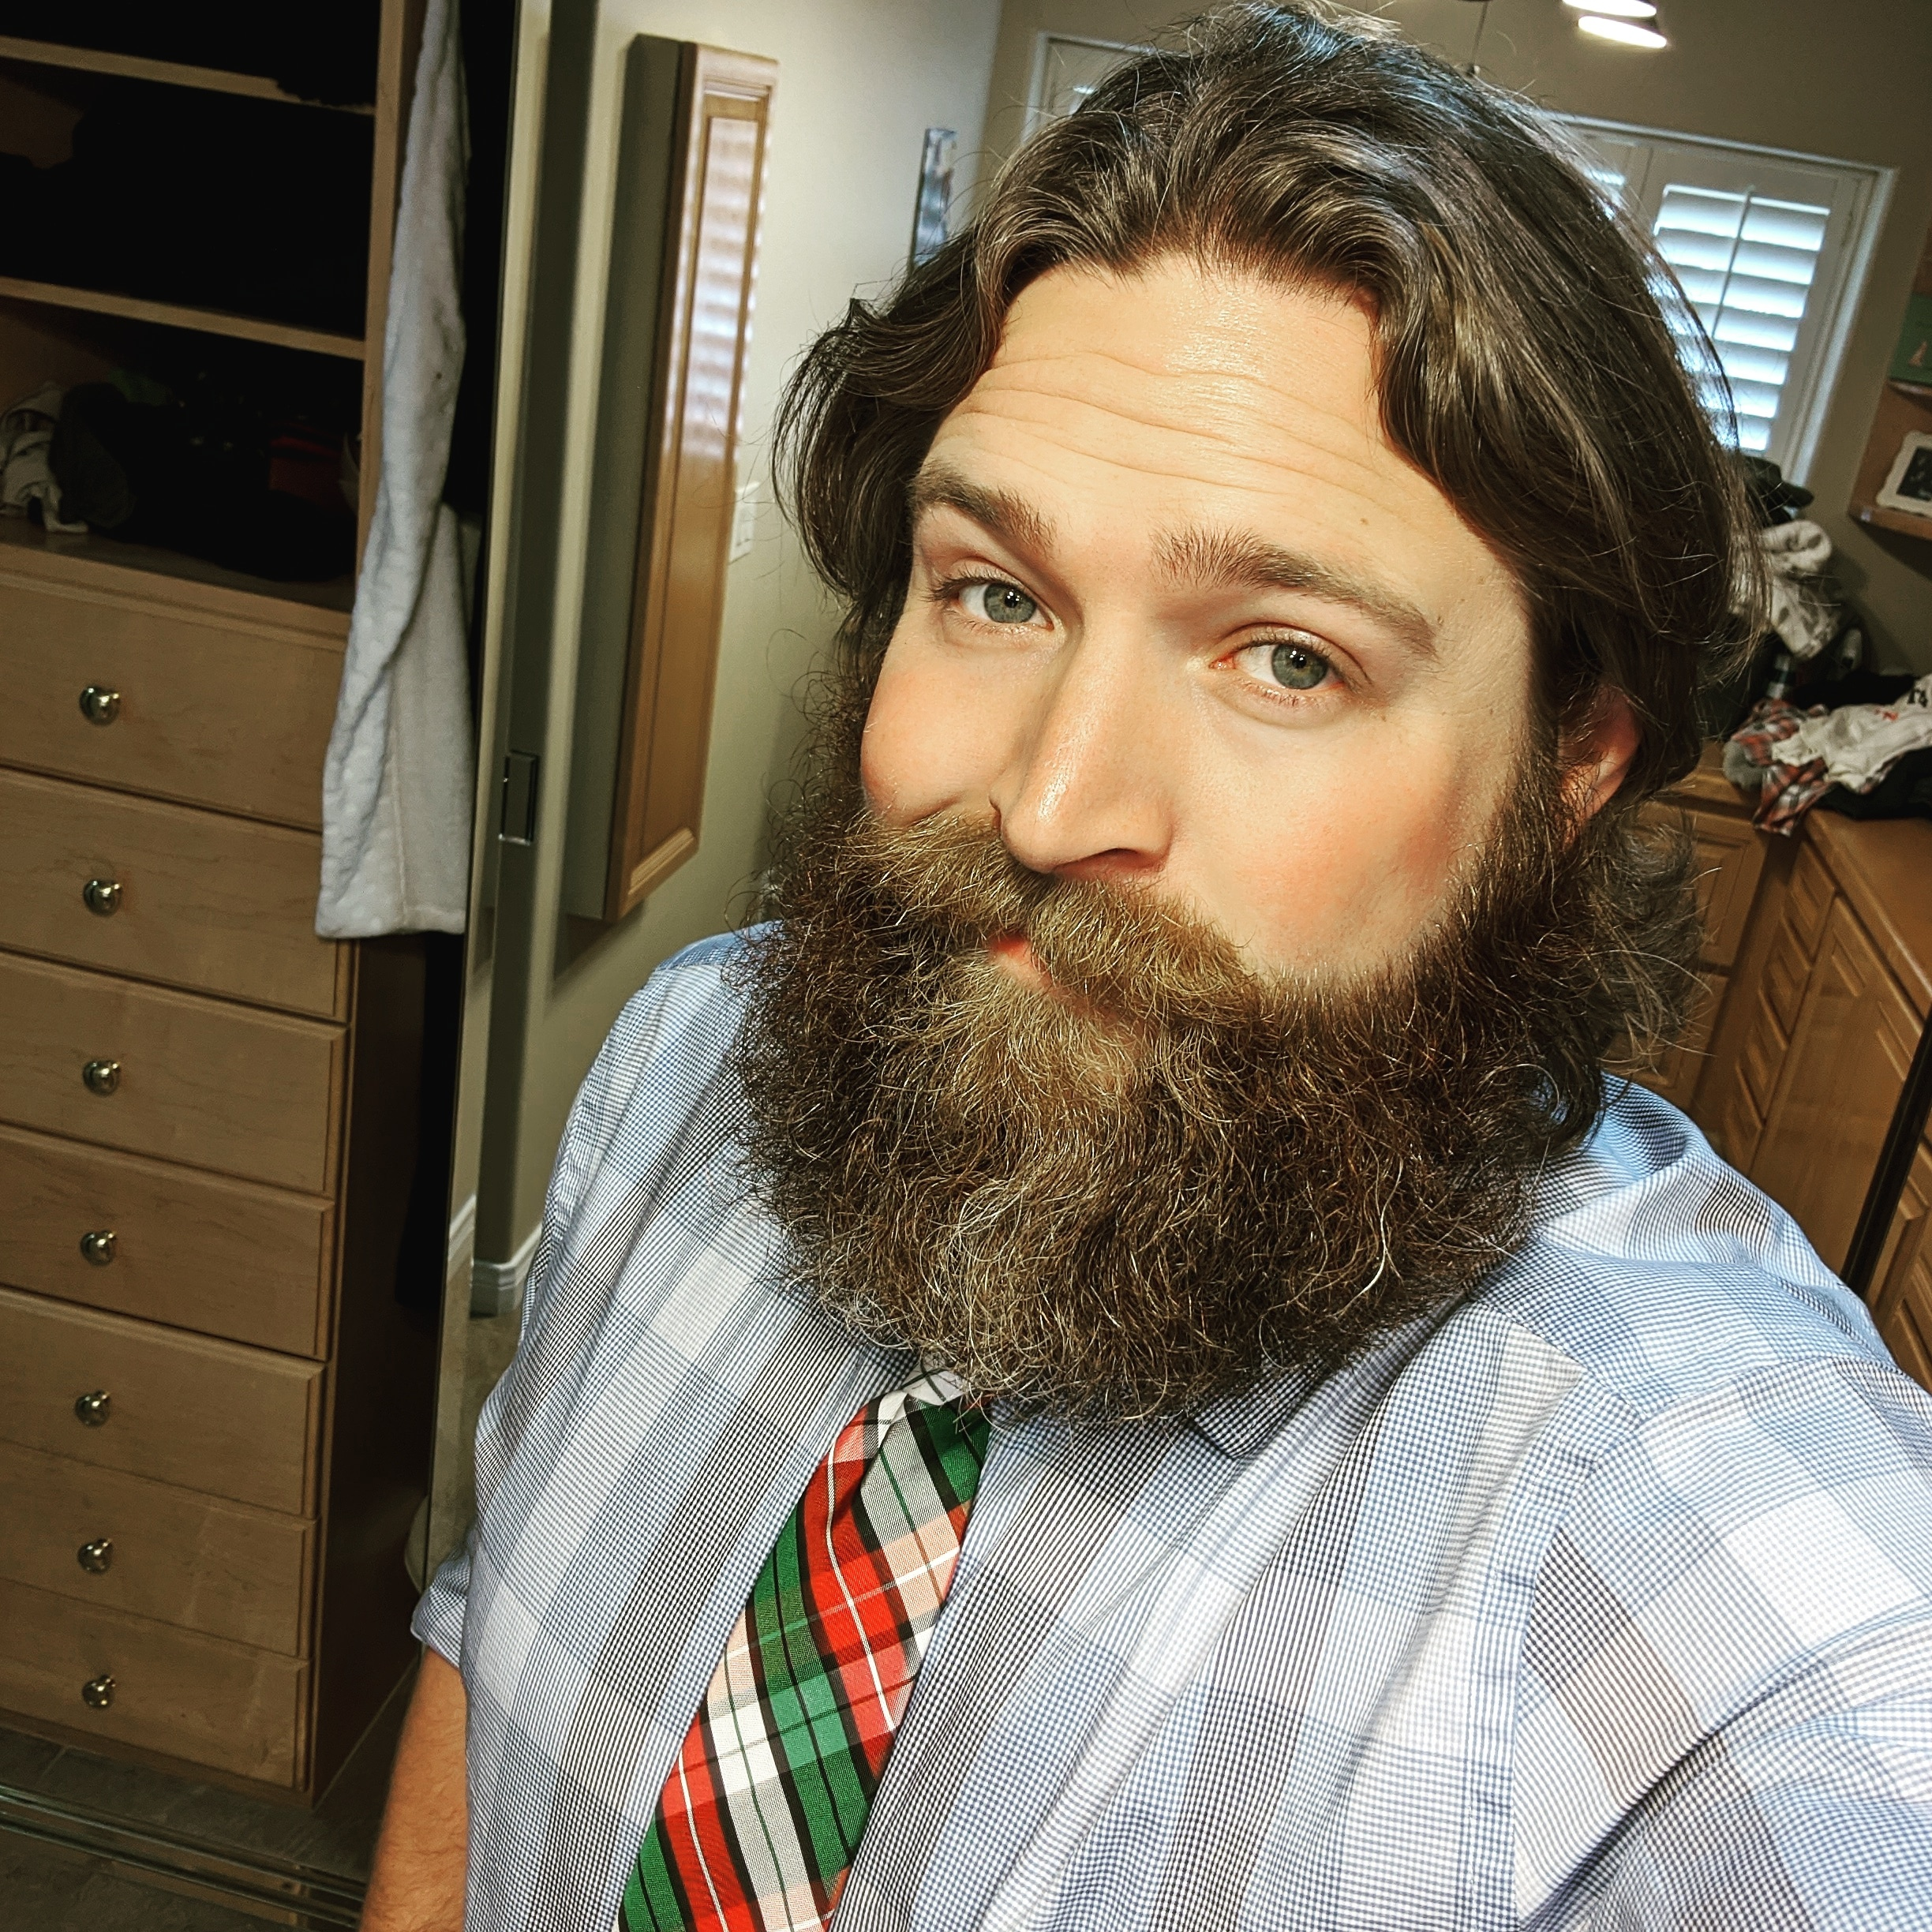no_mask: (843, 723, 1515, 1247)
